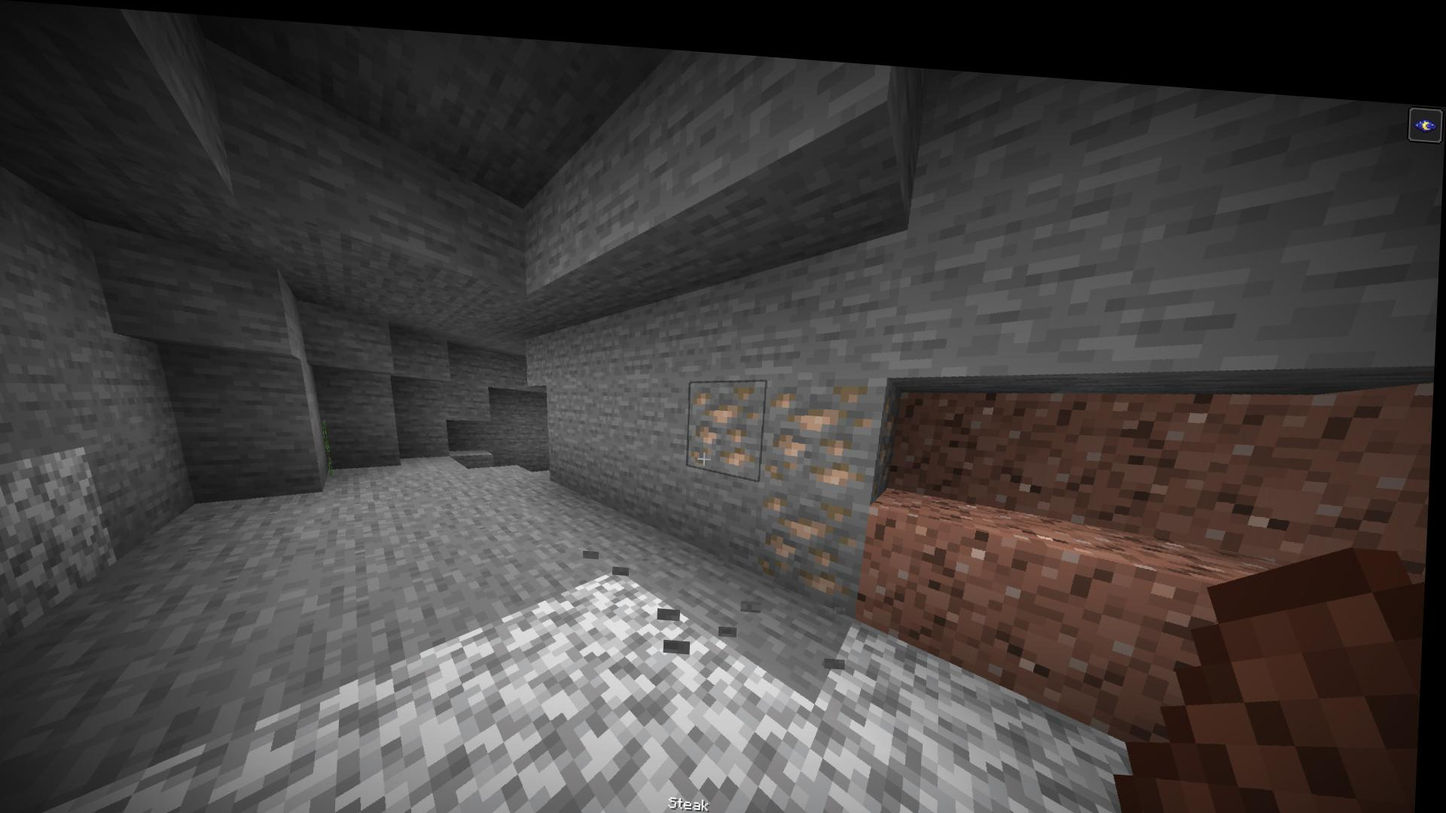iron ore: (767, 367, 877, 478), (764, 476, 860, 585), (688, 369, 766, 464)
